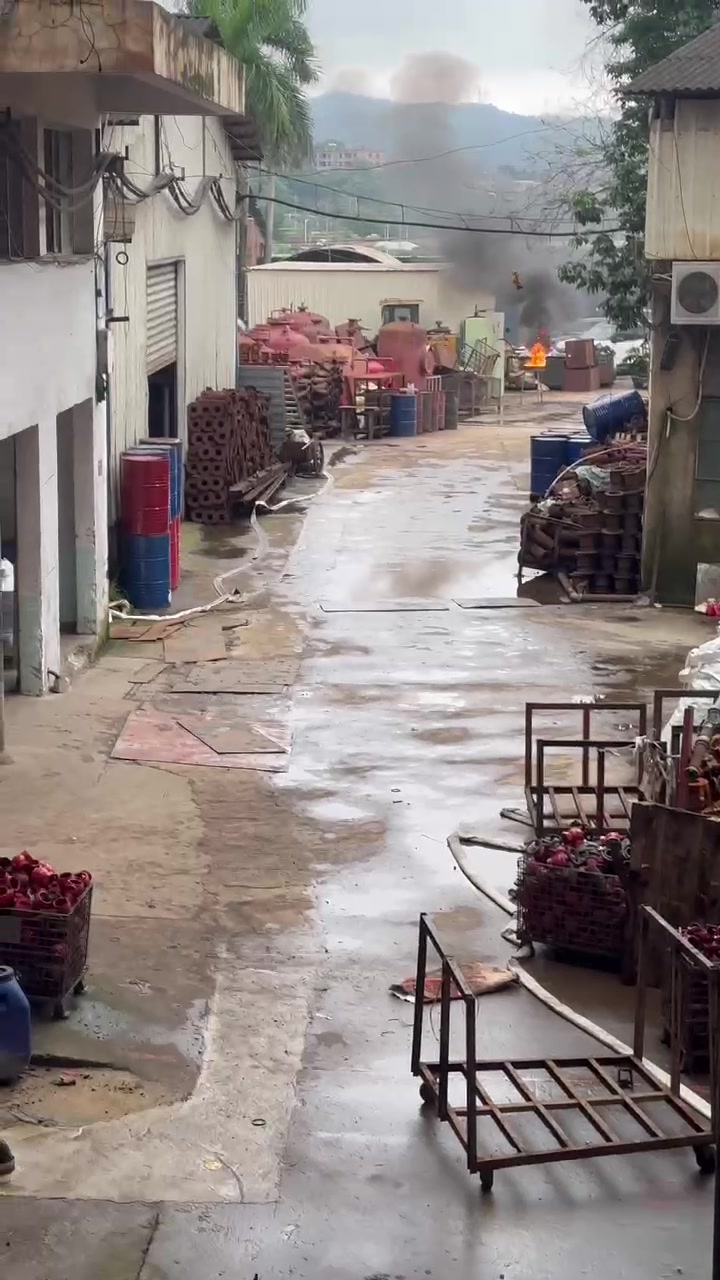fire: (524, 342, 545, 365)
